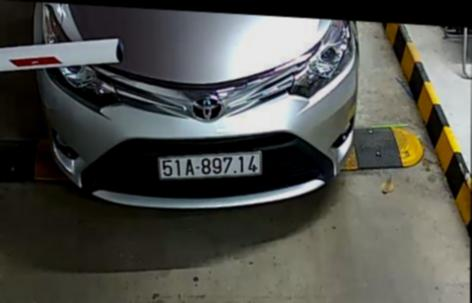License_Plate: (150, 141, 275, 190)
